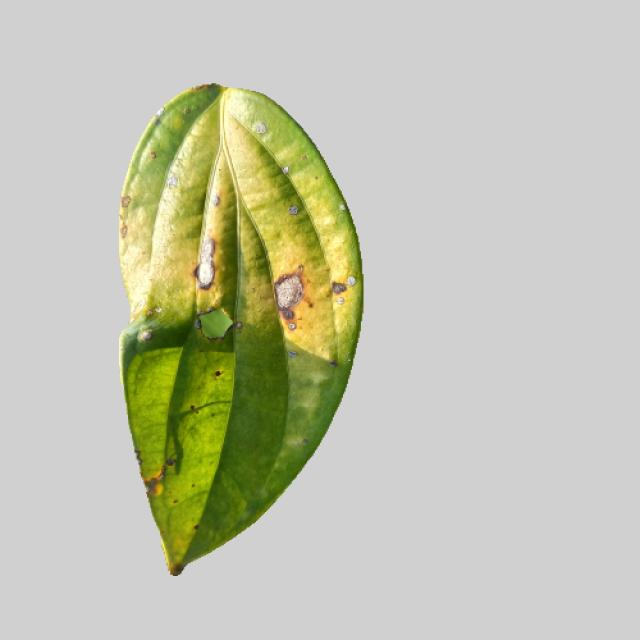leaf-blight: (102, 88, 364, 572)
